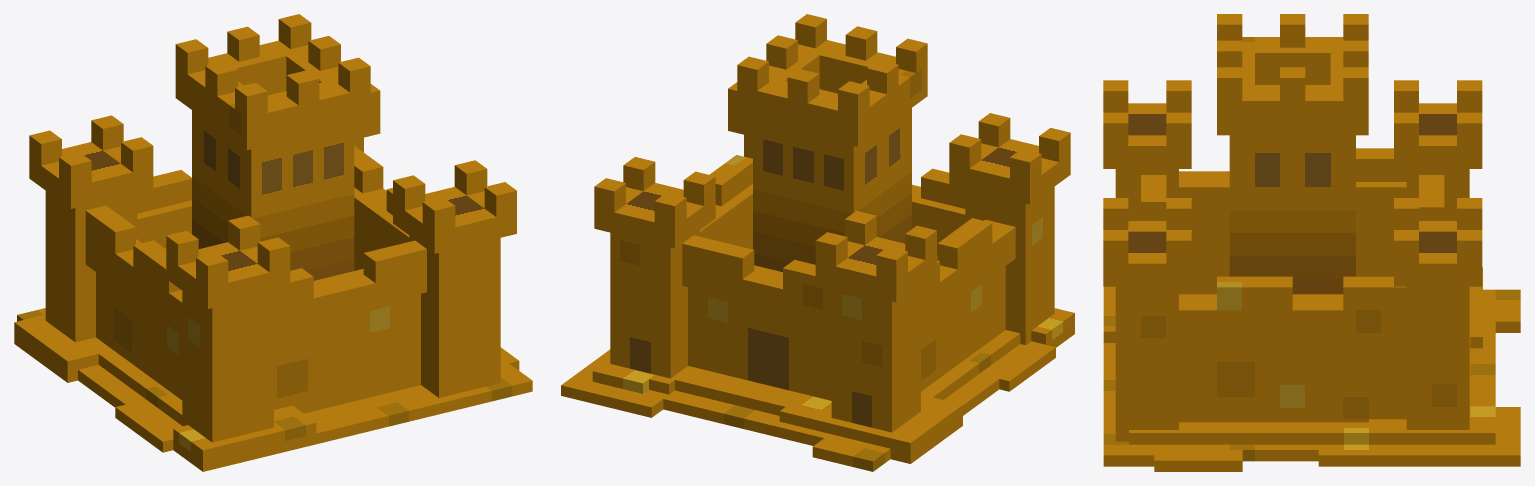
3 renders of one model, left to right at view 1: azimuth 30°, elevation 25°; view 2: azimuth 150°, elevation 25°; view 3: azimuth 270°, elevation 25°, orthographic. The views are drawn at different scales.
Parts seen in each view (by area): view 1: castle-Local, sand-Local; view 2: castle-Local, sand-Local; view 3: castle-Local, sand-Local.
Part boxes in pixels (<box>): castle-Local: <box>29,14,516,442</box>; sand-Local: <box>14,308,532,471</box>; castle-Local: <box>594,14,1070,432</box>; sand-Local: <box>561,308,1074,471</box>; castle-Local: <box>1103,14,1482,441</box>; sand-Local: <box>1103,267,1520,471</box>.
Bounding box in the file's own units: 34 × 29 × 33.04.
Materials: 2 (2 with a texture image).
